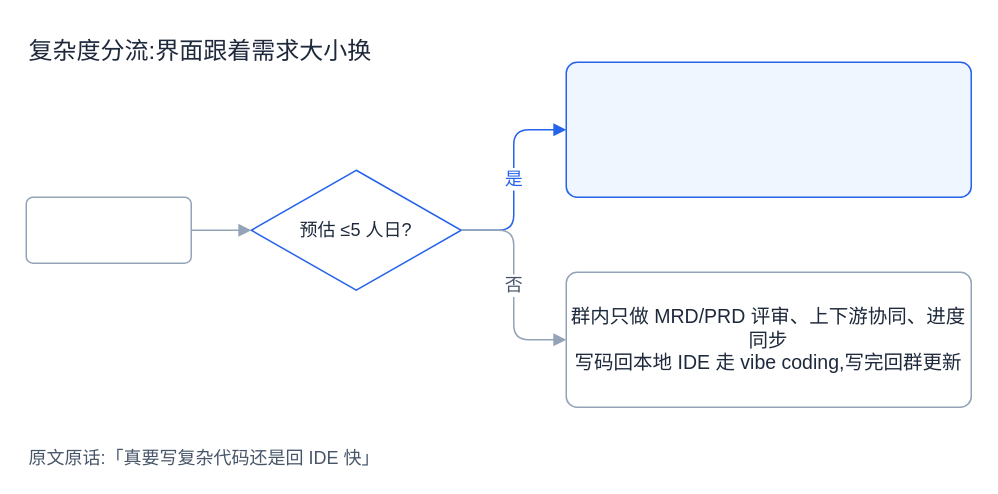
Some shapes in this 998 by 494 pixel diagram are drawn without their labels. The centre of each missing label's shape, as x and y in pixels:
"群内闭环:编码、测试、验收全在群内 AI 直接出 diff + 测试报告 目标:零研发投入,当天上线" goes at (768,129).
"需求进群" goes at (108,229).
